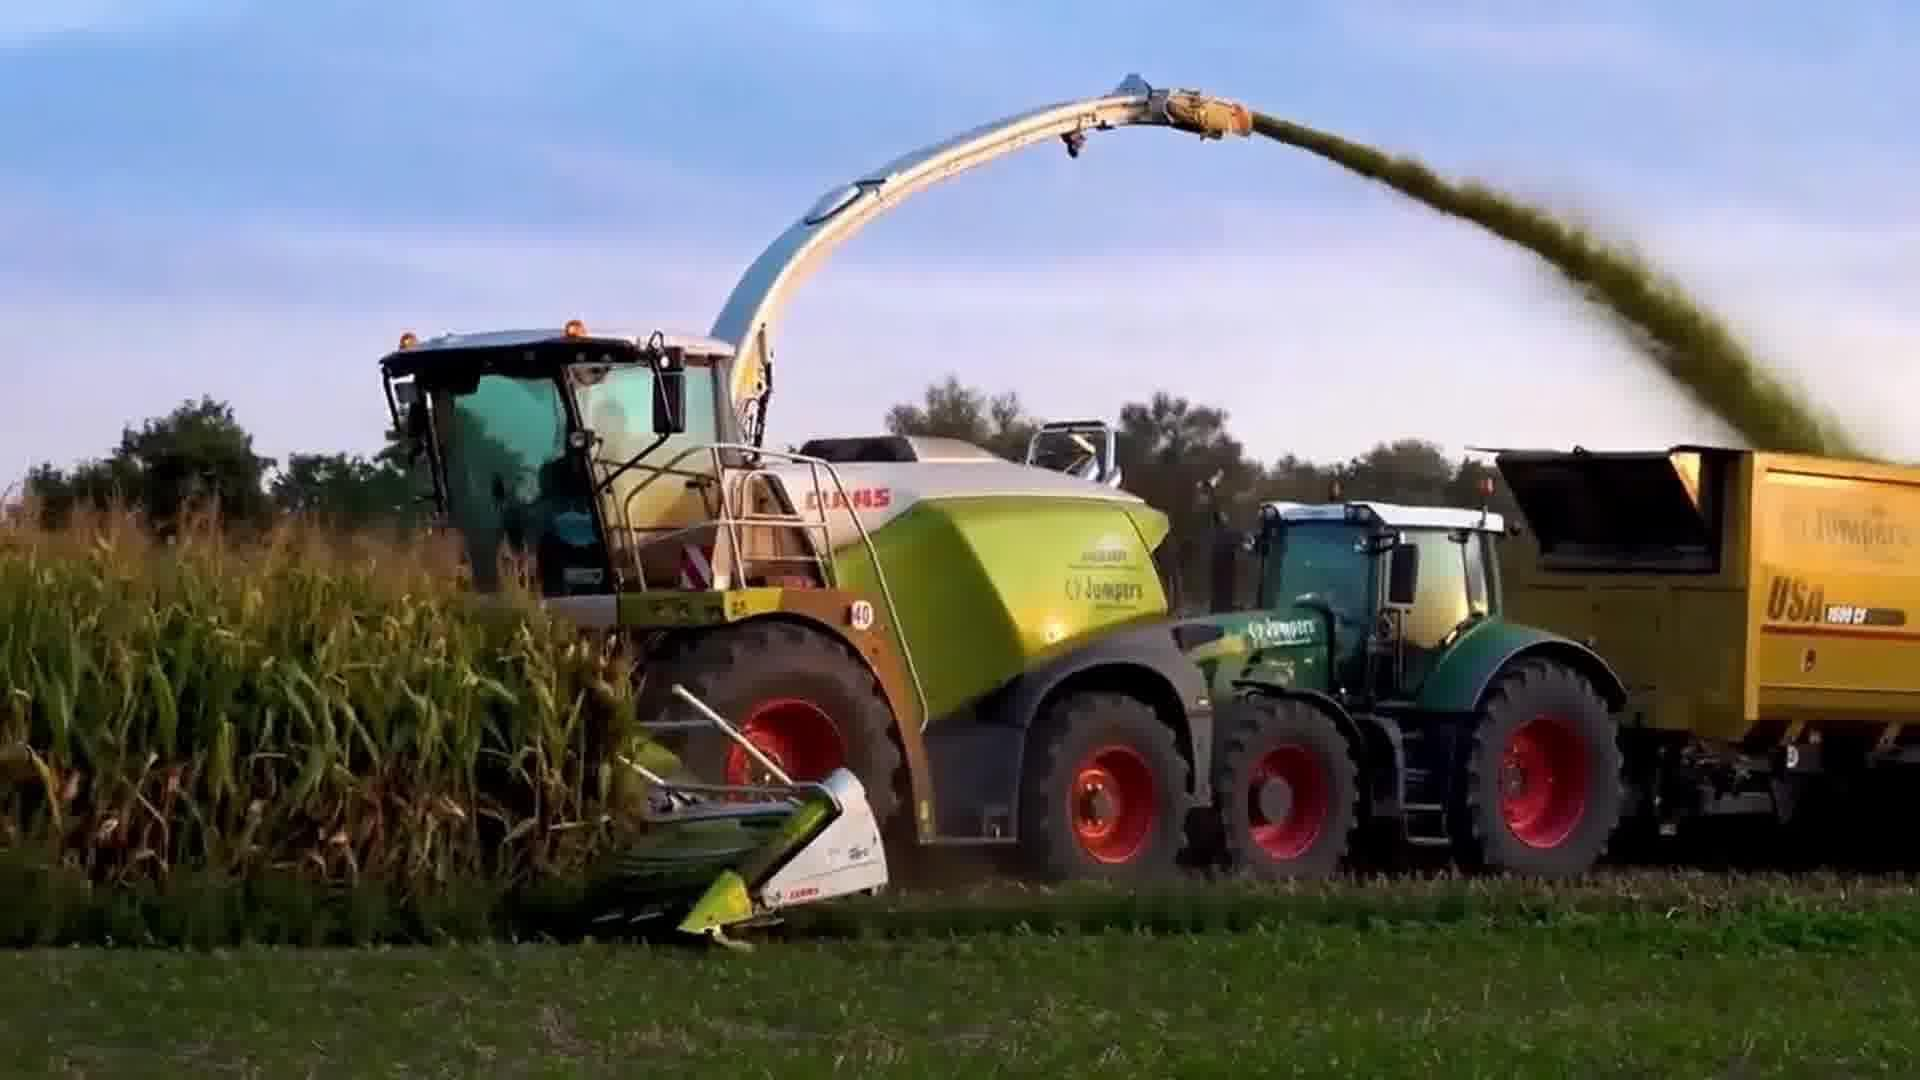combine harvester: (372, 69, 1262, 953)
tractor: (1159, 469, 1643, 903)
trailer: (1490, 438, 1920, 878)
